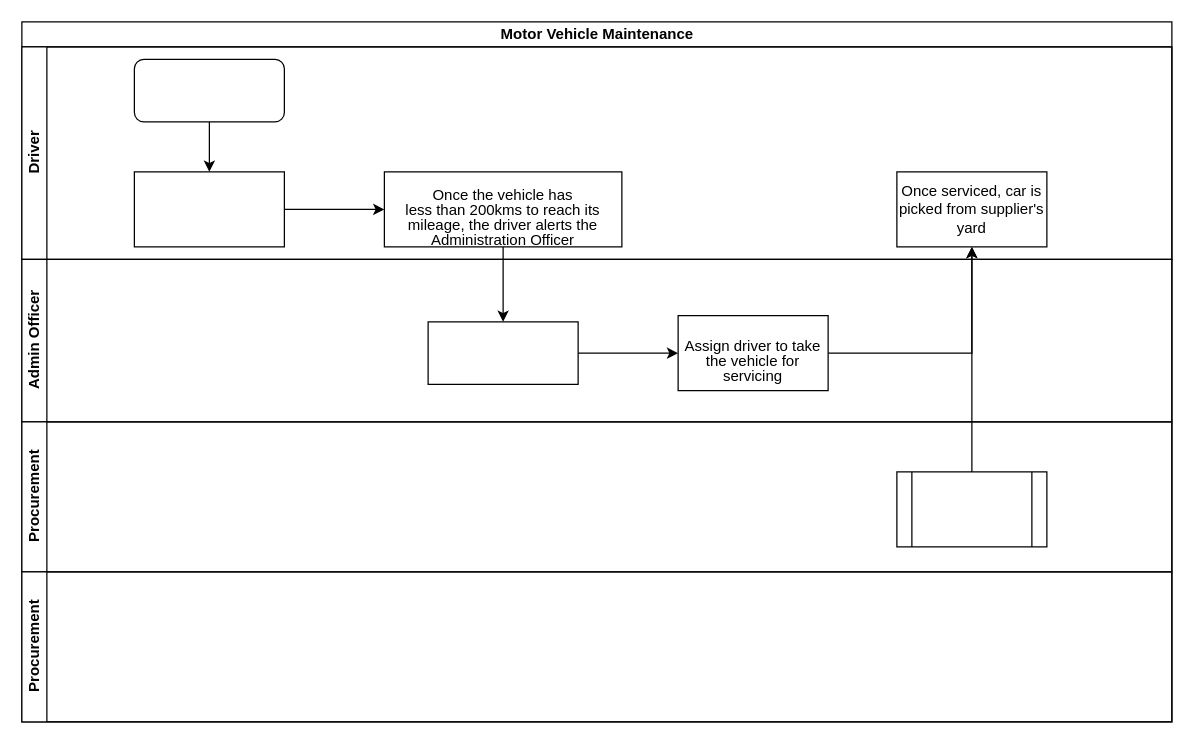
The diagram is 1194 pixels wide and 744 high, and some of its shapes have lost their labels. Here are the shapes that lost their labels. From the top down, the box of each, then its label:
(133, 58, 284, 122): Start
(133, 171, 284, 247): Driver tracks milage
(427, 321, 578, 384): Raise a requisition once its due for service
(896, 471, 1047, 547): Make necessary payments
